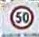limite 50: (9, 4, 34, 28)
